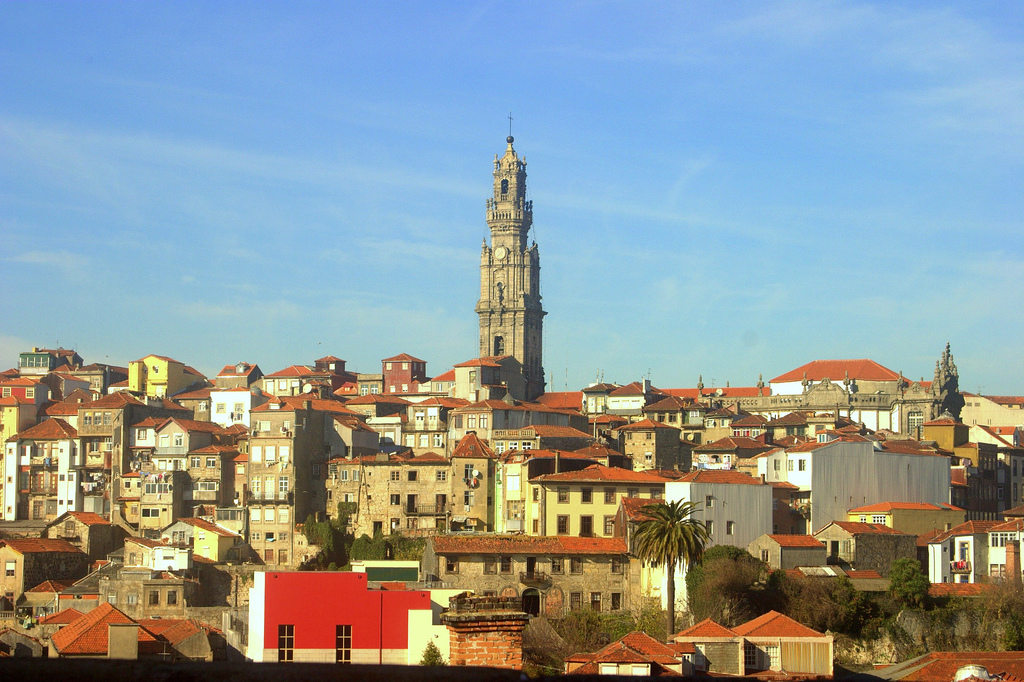clerigos: (471, 116, 549, 400)
